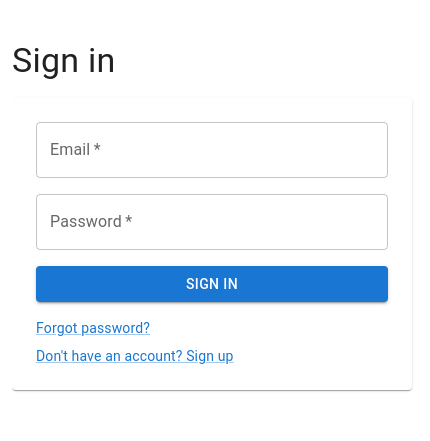
LoginPage › shows error when sign in fails
Type "user@example.com" into the field labelled "Email *" at (212, 150), box x1=36 y1=122 x2=388 y2=178
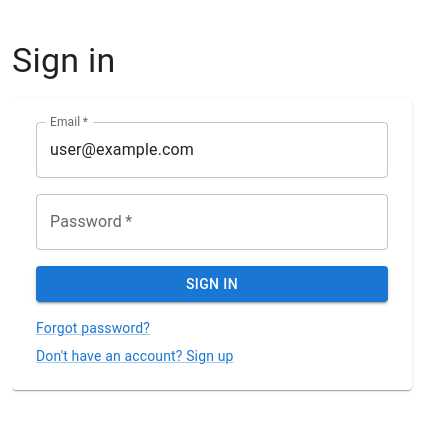
Type "wrong" into the password field labelled "Password *" at (212, 222), box x1=36 y1=194 x2=388 y2=250
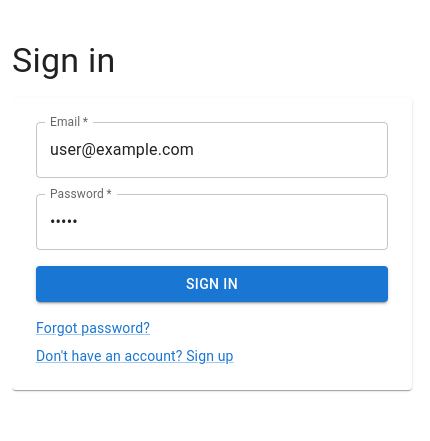
Submit the form from the button "Sign in", box x1=36 y1=266 x2=388 y2=302
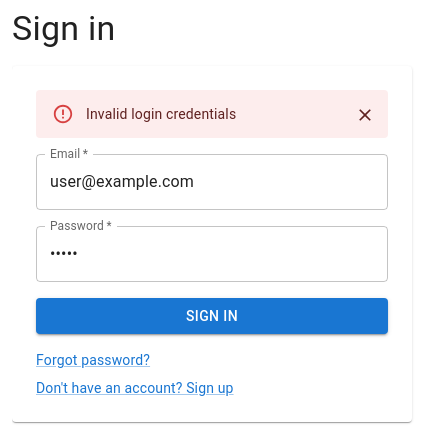
Result: the text "Invalid login credentials" is shown at x1=86 y1=106 x2=236 y2=122
